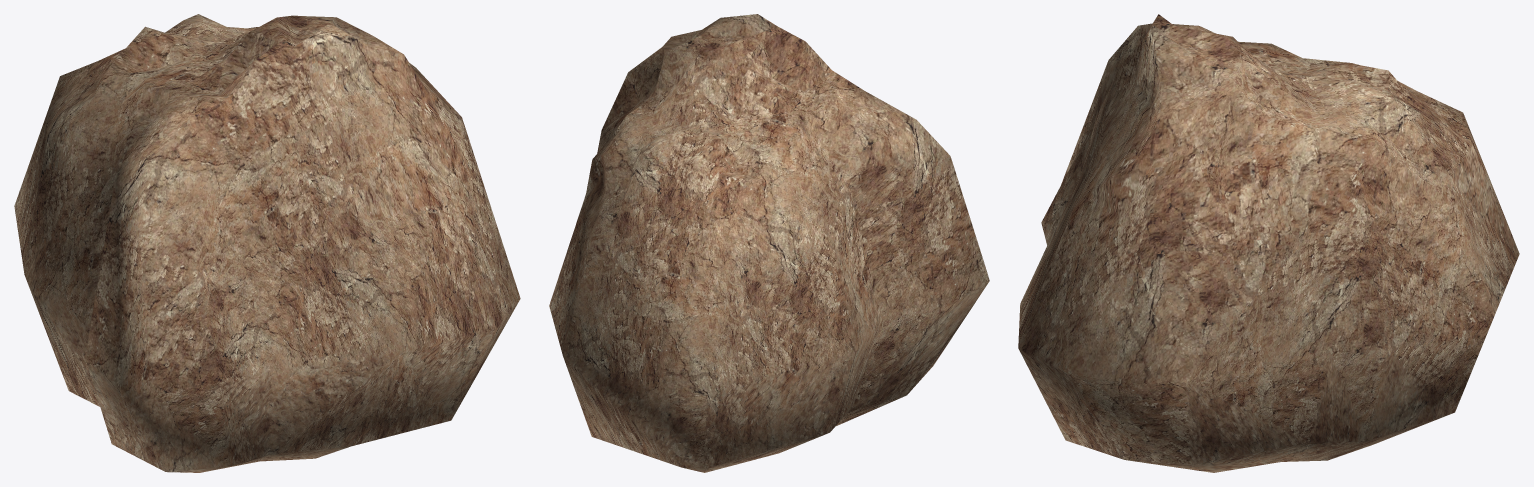
File: rock_tatt_boulder_tan_l0.fbx
3 views of the same model, side by side, from view 1: azimuth 30°, elevation 25°; view 2: azimuth 150°, elevation 25°; view 3: azimuth 270°, elevation 25° (orthographic). The views are drawn at different scales.
Visible parts, largest first — view 1: mesh_node; view 2: mesh_node; view 3: mesh_node.
Part boxes in pixels (left/top/right/bottom): mesh_node: left=14, top=14, right=520, bottom=472; mesh_node: left=549, top=14, right=989, bottom=472; mesh_node: left=1018, top=14, right=1519, bottom=472.
Bounding box in the file's own units: 5 × 4.87 × 5.35.
